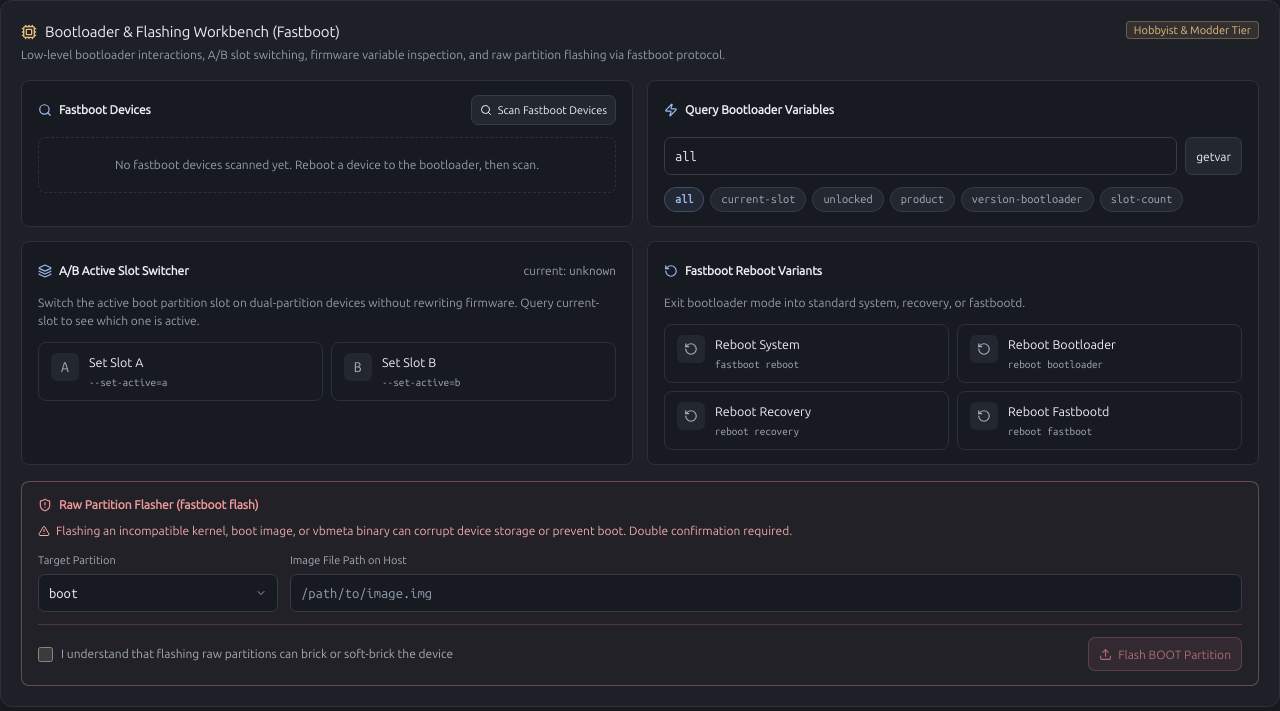
Test case: FastbootPanel › does not claim an active slot until getvar reports one
The image size is (1280, 711).
Expected: the text "unknown" is shown, [569,264,616,277]
Click the button "getvar".
click(1214, 156)  # box [1185,137,1242,175]
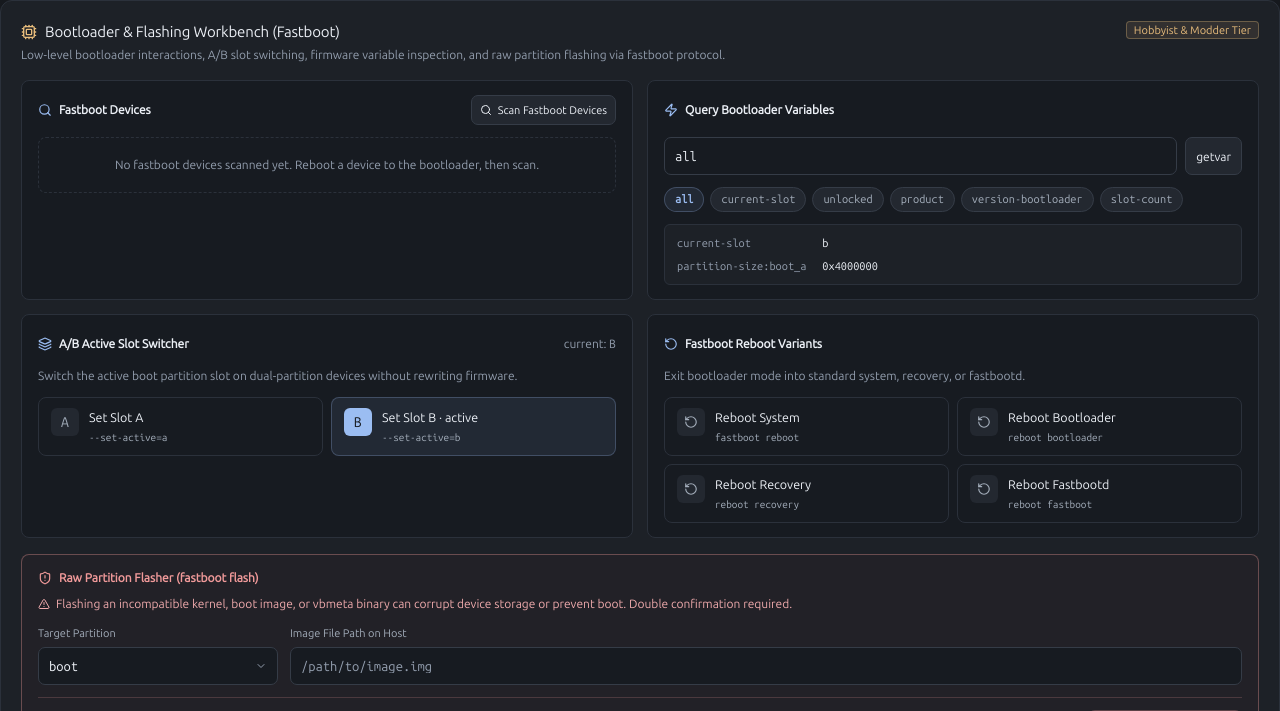
Expected: the text "Set Slot B · active" is shown, [382,408,478,427]
Expected: the text "partition-size:boot_a" is shown, [677,258,806,274]
